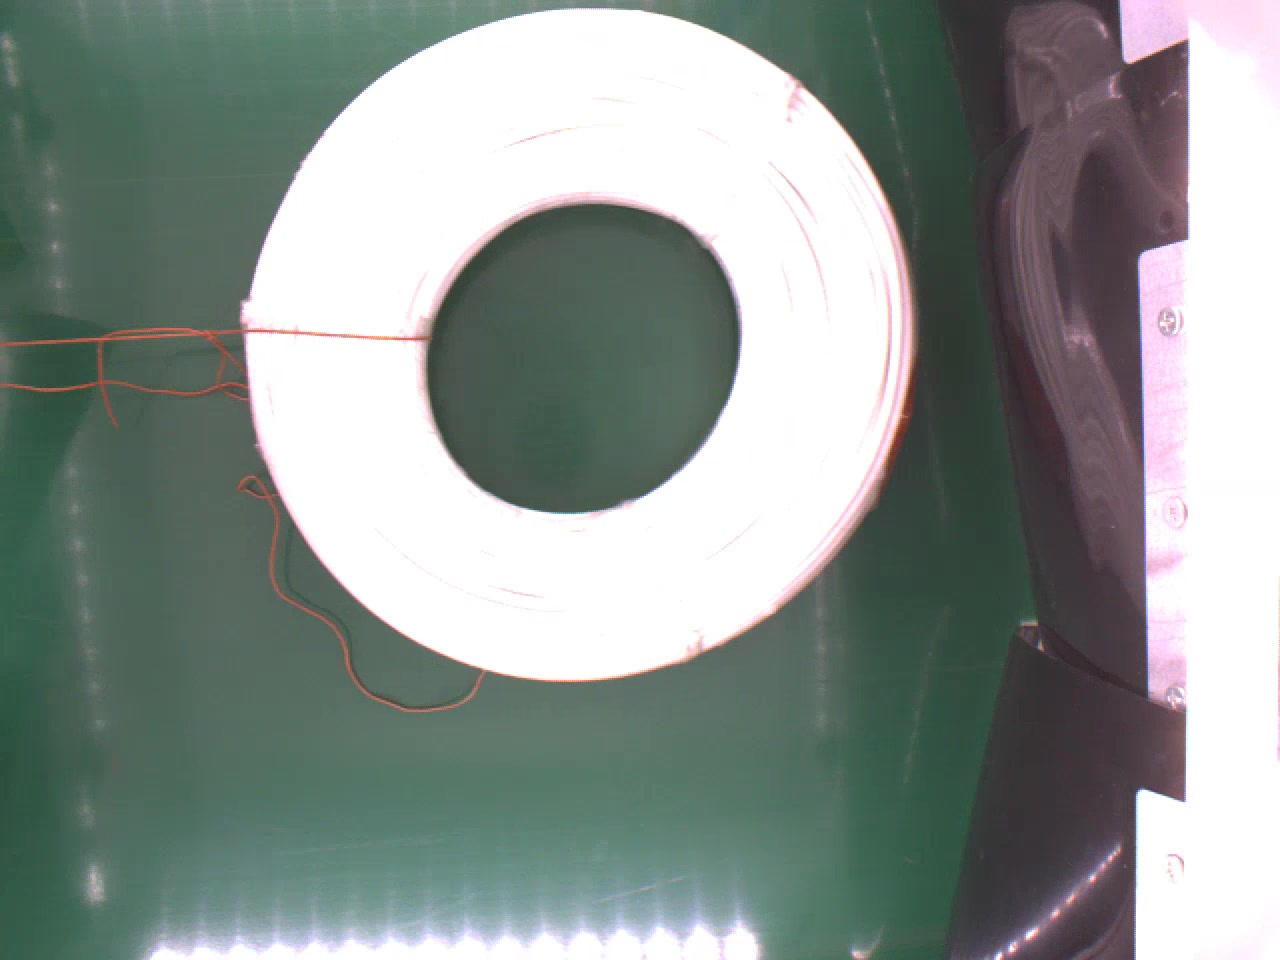white: (240, 8, 930, 686)
